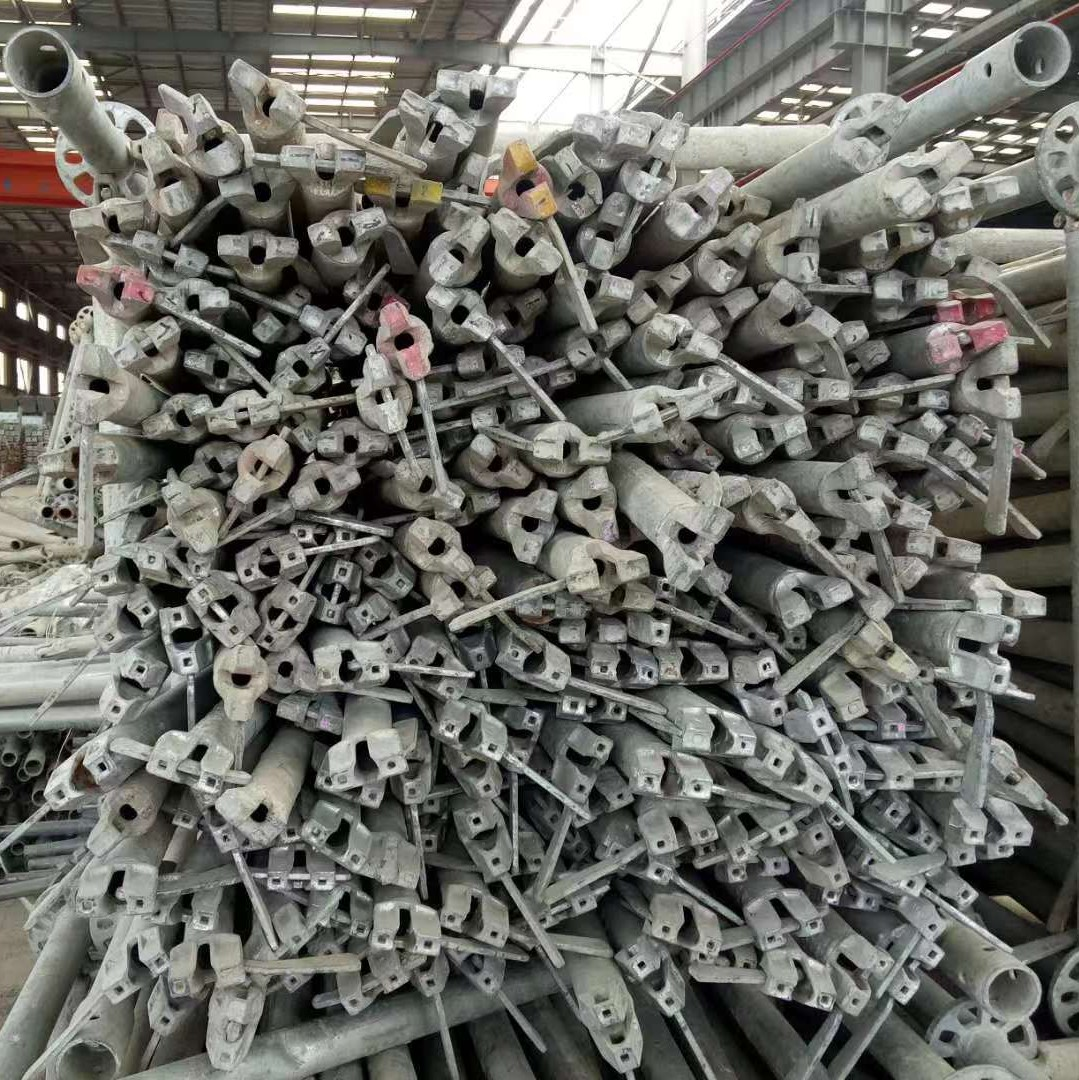NHsquare_steel: (660, 499, 734, 594), (882, 140, 973, 214), (228, 54, 312, 126), (179, 90, 243, 177), (663, 164, 734, 240), (388, 90, 475, 152), (842, 93, 910, 172), (132, 134, 193, 219), (491, 212, 562, 280), (754, 482, 822, 550), (701, 222, 763, 296), (631, 122, 686, 205), (428, 215, 492, 286), (770, 284, 844, 345), (501, 139, 556, 221), (569, 467, 628, 541), (629, 386, 715, 436), (405, 517, 474, 579), (774, 576, 854, 628), (648, 313, 724, 367), (627, 262, 692, 325), (918, 322, 1007, 368), (778, 204, 829, 284), (389, 460, 464, 514), (832, 460, 888, 532), (214, 229, 301, 275), (427, 286, 497, 343), (381, 302, 431, 381), (434, 62, 519, 108), (462, 436, 532, 491), (68, 265, 155, 309), (854, 417, 928, 468), (230, 438, 287, 504), (860, 557, 926, 614), (513, 487, 559, 568), (551, 143, 598, 222), (133, 232, 212, 279), (279, 140, 371, 180), (585, 193, 630, 274), (69, 346, 115, 425), (979, 344, 1026, 421), (939, 174, 1025, 216), (250, 287, 312, 345), (359, 356, 406, 432), (427, 568, 496, 619), (731, 415, 807, 461), (174, 952, 245, 1000), (140, 395, 214, 441), (116, 318, 181, 370), (930, 238, 1003, 284), (304, 207, 390, 245), (291, 462, 360, 509), (301, 307, 367, 356), (564, 321, 631, 369), (691, 286, 759, 333), (697, 368, 769, 412), (362, 171, 445, 209), (783, 413, 856, 456), (924, 413, 976, 473), (559, 266, 635, 307), (958, 416, 1021, 464), (991, 752, 1044, 809), (273, 338, 331, 390), (771, 372, 848, 411), (531, 429, 612, 466), (216, 167, 294, 205), (39, 441, 120, 477), (965, 584, 1048, 619), (274, 390, 320, 453), (219, 650, 261, 719), (69, 198, 145, 236), (905, 531, 981, 569), (860, 219, 935, 257), (871, 380, 951, 415), (203, 398, 282, 433), (469, 394, 540, 432), (493, 286, 549, 334), (151, 284, 232, 317), (119, 479, 159, 545), (669, 425, 725, 472), (272, 699, 342, 736), (178, 442, 241, 483), (182, 352, 255, 387), (873, 275, 950, 308), (458, 343, 528, 379), (514, 590, 590, 623), (313, 428, 391, 459), (938, 289, 1001, 322), (882, 491, 932, 531), (559, 621, 628, 647), (510, 367, 574, 394), (417, 380, 486, 405), (598, 583, 653, 614)
THsquare_steel: (958, 612, 1021, 693), (43, 746, 118, 814), (759, 743, 831, 807), (585, 997, 643, 1072), (101, 656, 160, 727), (330, 736, 405, 791), (103, 944, 167, 1008), (461, 803, 513, 881), (625, 954, 686, 1018), (91, 595, 156, 655), (299, 815, 368, 871), (562, 730, 614, 804), (644, 908, 724, 956), (71, 875, 158, 919), (498, 637, 570, 690), (430, 711, 506, 760), (767, 966, 838, 1016), (873, 800, 939, 852), (634, 760, 715, 802), (636, 814, 718, 855), (833, 674, 903, 722), (440, 901, 511, 948), (842, 945, 889, 1015), (675, 717, 755, 758), (161, 605, 208, 674), (745, 652, 787, 725), (803, 823, 850, 888), (354, 601, 406, 659), (364, 918, 441, 956), (194, 790, 239, 855), (356, 546, 412, 595), (586, 651, 659, 688), (602, 847, 672, 884), (144, 991, 200, 1036), (951, 812, 1031, 843), (663, 650, 729, 686), (506, 711, 546, 769), (148, 898, 215, 932), (454, 753, 501, 801), (944, 842, 1017, 870), (403, 738, 433, 805), (819, 888, 883, 917), (416, 799, 448, 853), (92, 555, 139, 591), (412, 960, 448, 1002)
THsquare_steel_blocked: (188, 582, 255, 647), (143, 743, 225, 795), (797, 697, 851, 775), (255, 587, 315, 656), (887, 943, 945, 1011), (208, 996, 257, 1071), (728, 815, 801, 865), (343, 960, 407, 1016), (236, 538, 306, 586), (451, 942, 505, 1000), (407, 651, 469, 701), (756, 907, 822, 952), (533, 890, 601, 931), (920, 883, 970, 938), (541, 807, 589, 861), (143, 548, 211, 584), (320, 559, 357, 625), (558, 691, 631, 724), (841, 767, 916, 796), (262, 868, 335, 894), (871, 719, 939, 745), (325, 904, 368, 940)
circle_steel: (1, 24, 81, 100), (1006, 21, 1073, 89), (978, 959, 1045, 1021), (51, 1038, 124, 1080)
